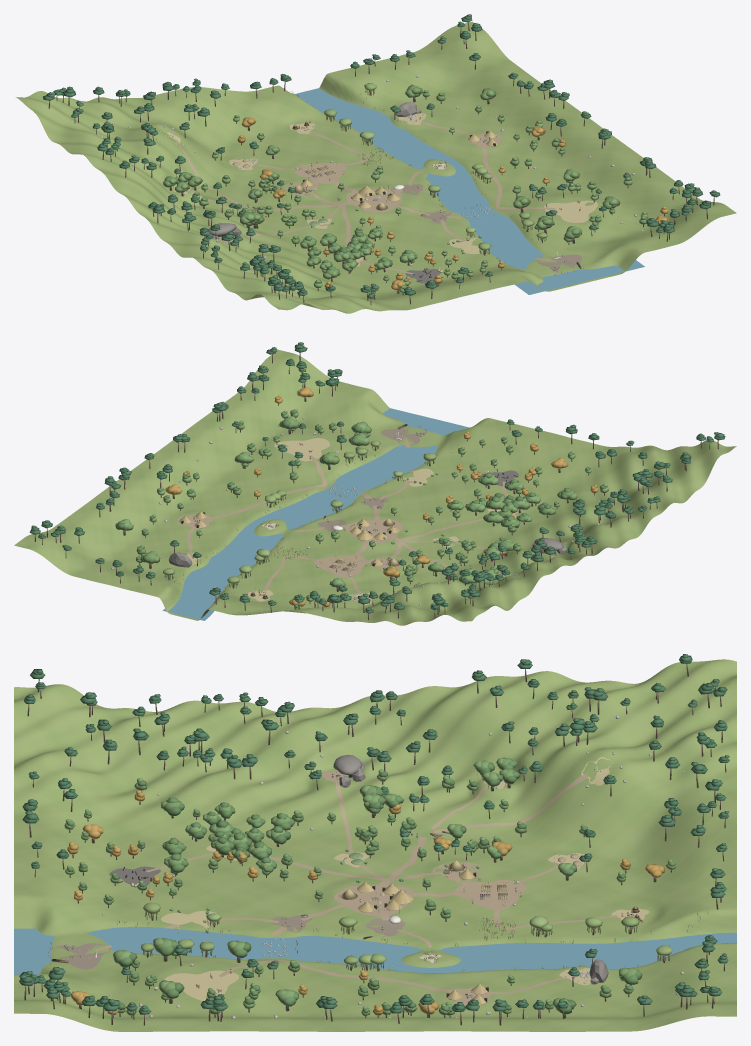
The model's file is neo.glb.
The picture shows the model from 3 angles, top to bottom: view 1: azimuth 30°, elevation 25°; view 2: azimuth 150°, elevation 25°; view 3: azimuth 270°, elevation 25°; orthographic projection. The views are drawn at different scales.
Parts seen in each view (by area): view 1: ground, static_pine, static_water, static_leaf2, static_dirt, static_dry, static_bark, static_leaf, static_leaf_autumn, static_willow, static_mud, static_thatch; view 2: ground, static_pine, static_water, static_leaf2, static_dirt, static_leaf, static_bark, static_dry, static_leaf_autumn, static_willow, static_mud, static_thatch; view 3: ground, static_pine, static_water, static_leaf2, static_dirt, static_leaf, static_bark, static_dry, static_leaf_autumn, static_willow, static_mud, static_thatch.
Part boxes in pixels (left/top/right/bottom): ground: left=16, top=21, right=736, bottom=313; static_pine: left=43, top=14, right=720, bottom=298; static_water: left=294, top=88, right=644, bottom=294; static_leaf2: left=163, top=85, right=648, bottom=295; static_dirt: left=175, top=120, right=555, bottom=274; static_dry: left=160, top=91, right=597, bottom=266; static_bark: left=48, top=22, right=714, bottom=304; static_leaf: left=165, top=84, right=647, bottom=293; static_leaf_autumn: left=237, top=117, right=668, bottom=289; static_willow: left=324, top=83, right=547, bottom=254; static_mud: left=402, top=184, right=581, bottom=273; static_thatch: left=301, top=130, right=497, bottom=208; ground: left=14, top=349, right=736, bottom=625; static_pine: left=29, top=342, right=725, bottom=613; static_water: left=162, top=408, right=469, bottom=620; static_leaf2: left=118, top=409, right=608, bottom=609; static_dirt: left=178, top=440, right=556, bottom=601; static_leaf: left=115, top=410, right=606, bottom=607; static_bark: left=34, top=352, right=718, bottom=620; static_dry: left=179, top=429, right=520, bottom=605; static_leaf_autumn: left=165, top=387, right=598, bottom=607; static_willow: left=163, top=440, right=436, bottom=588; static_mud: left=317, top=427, right=426, bottom=531; static_thatch: left=179, top=511, right=399, bottom=565; ground: left=14, top=659, right=736, bottom=1031; static_pine: left=19, top=654, right=729, bottom=1014; static_water: left=14, top=927, right=736, bottom=974; static_leaf2: left=64, top=757, right=676, bottom=1015; static_dirt: left=94, top=770, right=617, bottom=1005; static_leaf: left=66, top=759, right=675, bottom=1014; static_bark: left=24, top=663, right=726, bottom=1025; static_dry: left=70, top=757, right=708, bottom=1001; static_leaf_autumn: left=67, top=790, right=664, bottom=1015; static_willow: left=141, top=902, right=672, bottom=970; static_mud: left=51, top=915, right=405, bottom=969; static_thatch: left=357, top=869, right=487, bottom=1004.
Bounding box in the file's own units: 260 × 44.55 × 260.
